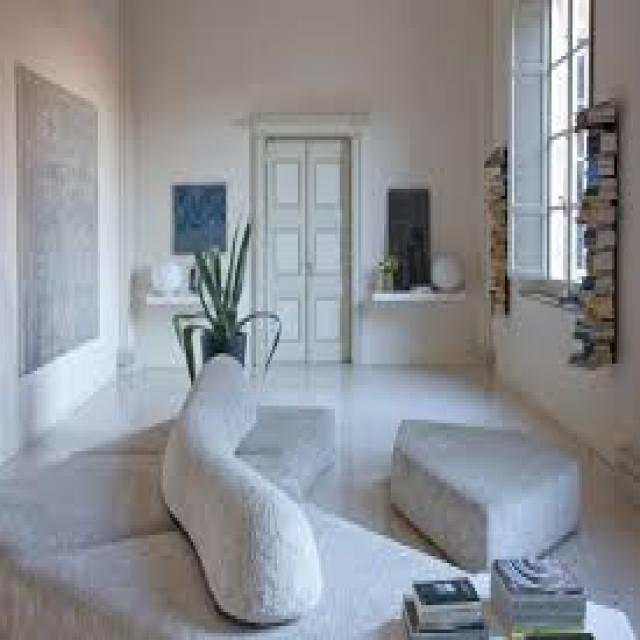a sofa: (64, 370, 349, 640), (402, 411, 588, 565)
door: (270, 131, 356, 367)
window: (542, 7, 600, 296)
